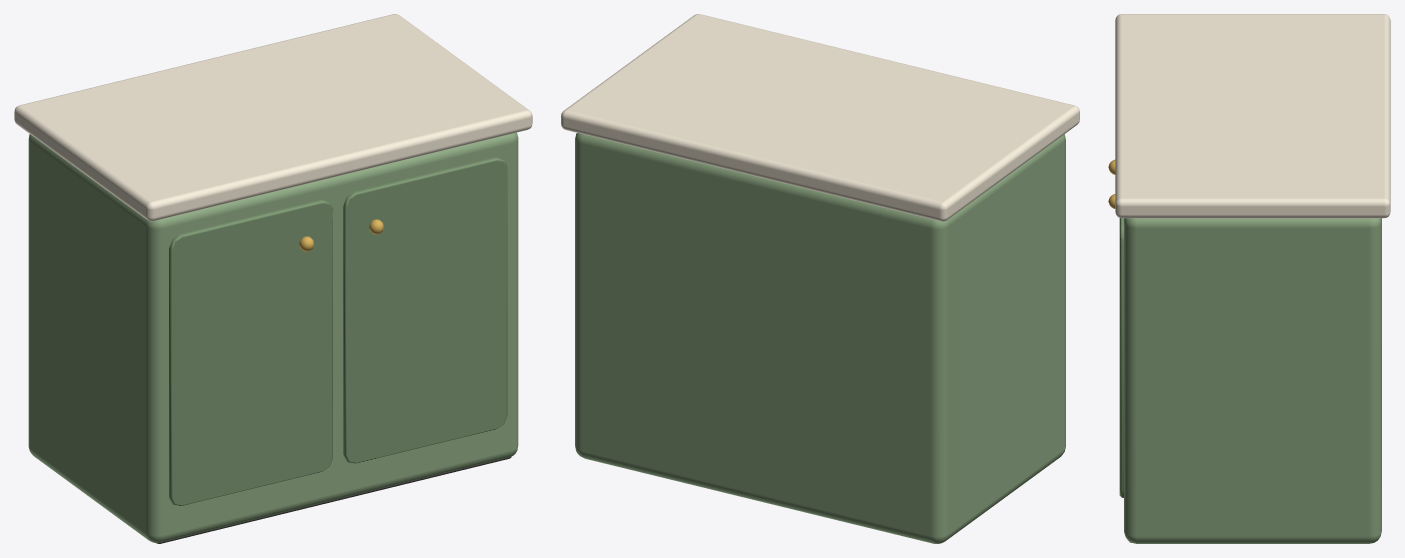
File: kitchen_counter.glb
3 renders of one model, left to right at view 1: azimuth 30°, elevation 25°; view 2: azimuth 150°, elevation 25°; view 3: azimuth 270°, elevation 25°, orthographic.
Visible parts, largest first — view 1: kitchen_counter_mesh; view 2: kitchen_counter_mesh; view 3: kitchen_counter_mesh.
Boxes of the visible parts, x1,y1,x2,y2 form: kitchen_counter_mesh: (14,14,532,543); kitchen_counter_mesh: (561,14,1079,543); kitchen_counter_mesh: (1108,14,1390,543).
Bounding box in the file's own units: 1.04 × 0.9 × 0.656.
